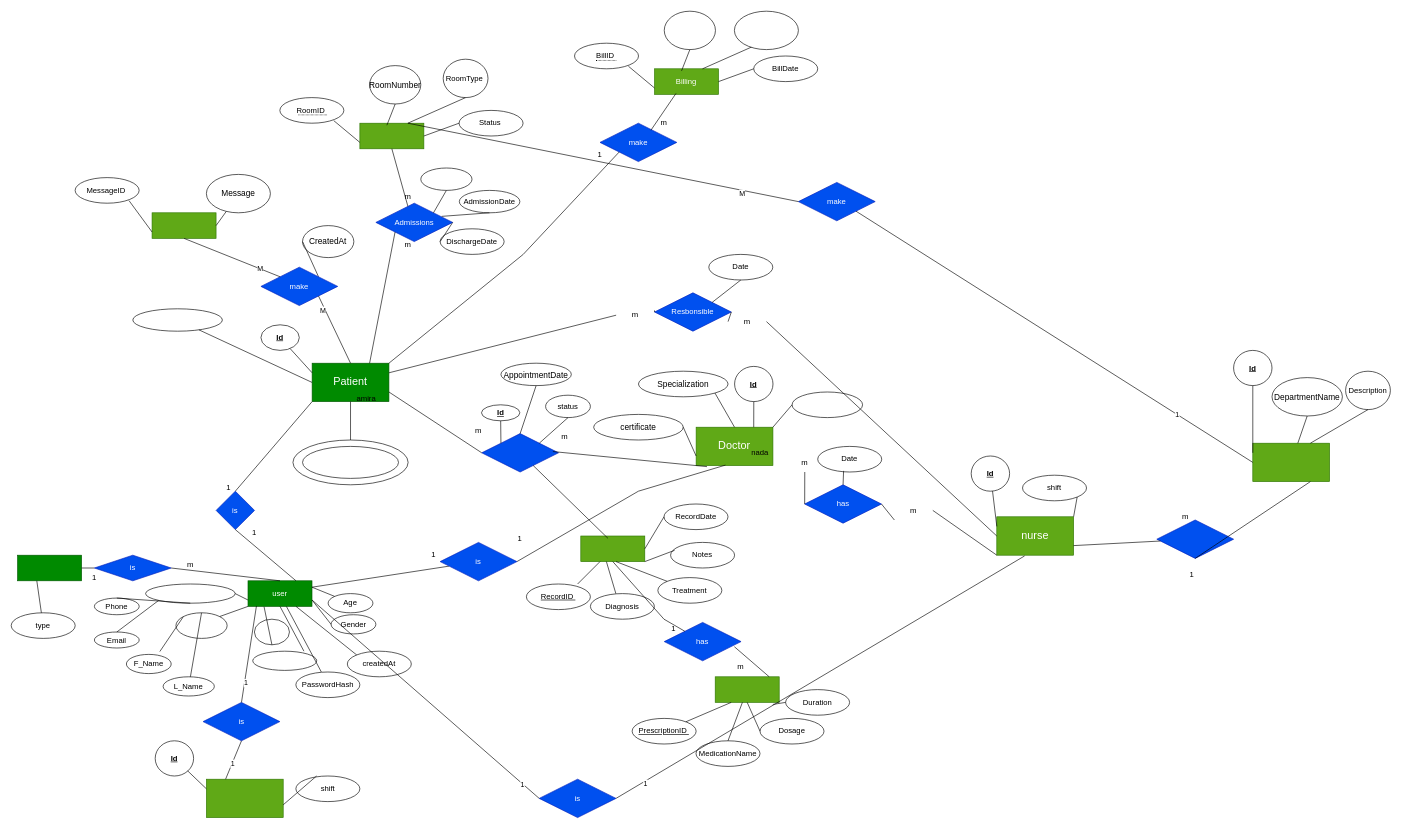
Image size: 1402x829. Some labels were removed from this diagram. The centre of each missing label's shape, as x and y in pixels:
AdmissionID: pixel 446 178
Appointments: pixel 520 452
bloodype: pixel 177 319
Contact_Information: pixel 190 593
ContactMessages: pixel 183 225
Department: pixel 1291 462
DOB: pixel 271 632
Emergency_Contact: pixel 350 462
Full_Name: pixel 201 625
MedicalRecords: pixel 612 548
PaymentStatus: pixel 766 30
Prescriptions: pixel 747 689
Receptionist: pixel 244 798
role: pixel 49 568
Rooms: pixel 391 136
TotalAmount: pixel 689 30
userId: pixel 284 660
works at: pixel 1195 538
YearsOfExperience: pixel 827 404
